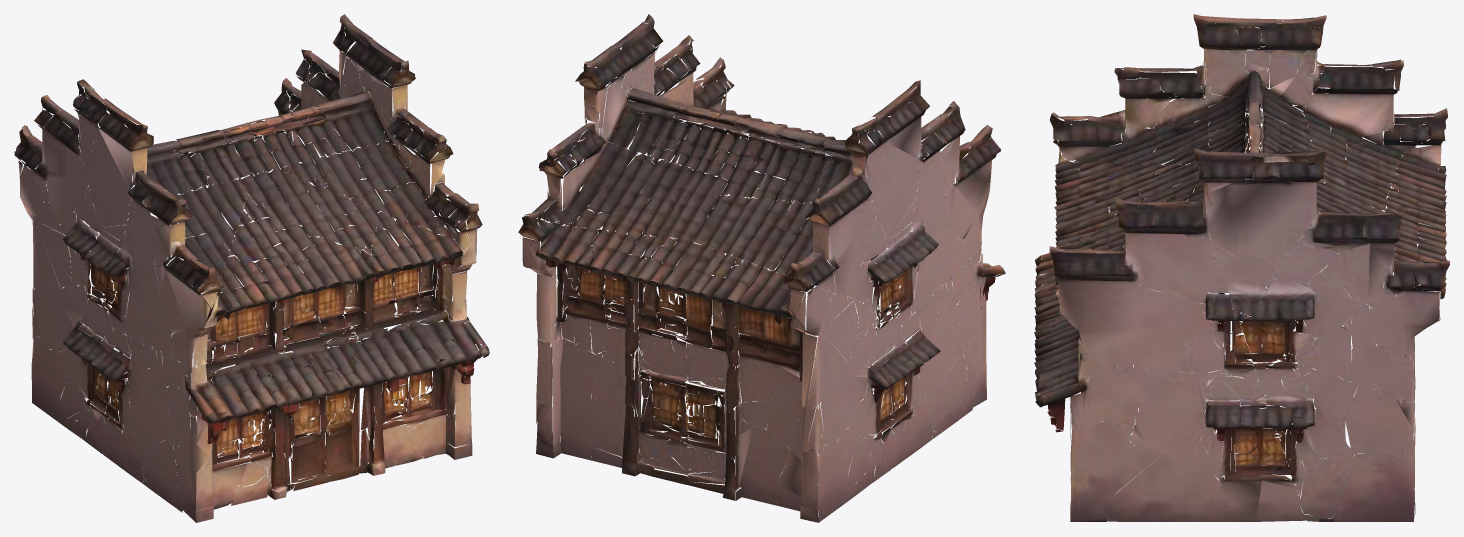
File: house_c_20k.glb
3 views of the same model, side by side, from view 1: azimuth 30°, elevation 25°; view 2: azimuth 150°, elevation 25°; view 3: azimuth 270°, elevation 25° (orthographic). The views are drawn at different scales.
Parts seen in each view (by area): view 1: tripo_node_f7ba3d5b-59a5-4ed7-b0fe-d70152c07c27; view 2: tripo_node_f7ba3d5b-59a5-4ed7-b0fe-d70152c07c27; view 3: tripo_node_f7ba3d5b-59a5-4ed7-b0fe-d70152c07c27.
Part boxes in pixels (x1,y1,x2,y2): tripo_node_f7ba3d5b-59a5-4ed7-b0fe-d70152c07c27: (14, 14, 489, 522); tripo_node_f7ba3d5b-59a5-4ed7-b0fe-d70152c07c27: (518, 14, 1005, 522); tripo_node_f7ba3d5b-59a5-4ed7-b0fe-d70152c07c27: (1034, 14, 1449, 521).
Bounding box in the file's own units: 0.9105 × 0.9656 × 0.9805.
Materials: 1 (1 with a texture image).
